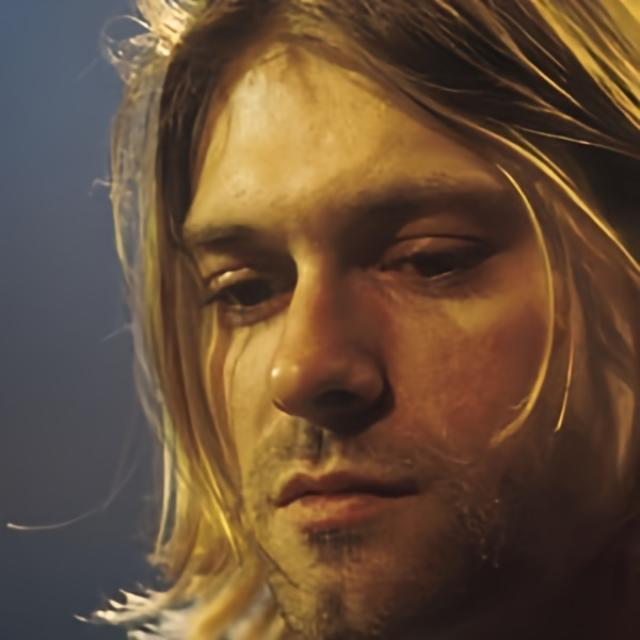sad: (173, 29, 580, 640)
